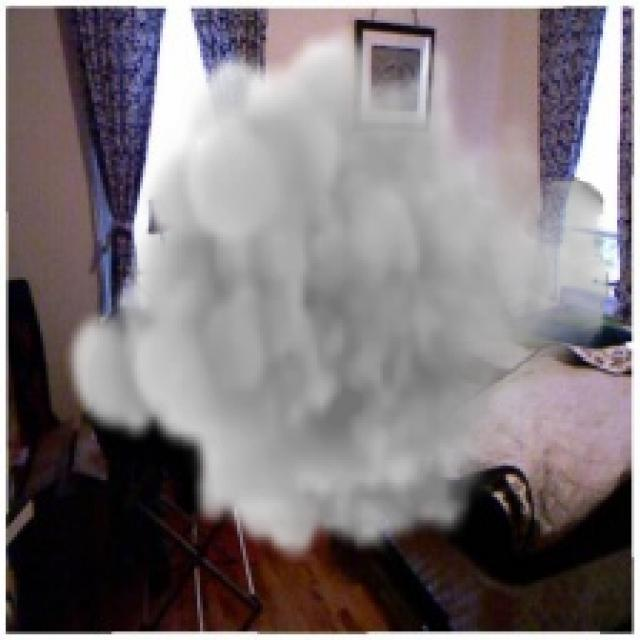Smoke: (60, 23, 614, 563)
